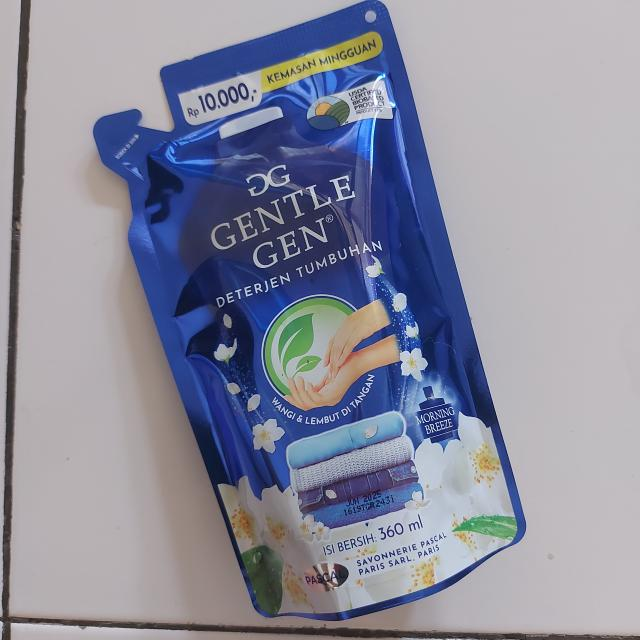Anorganik: (96, 0, 526, 623)
